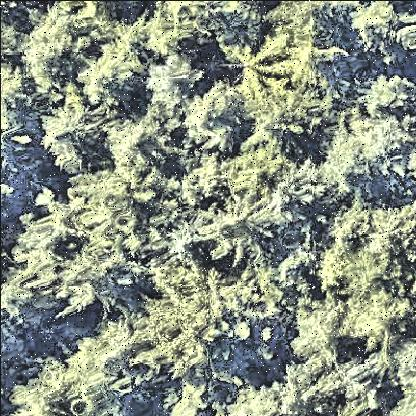tree-top: (136, 263, 249, 375), (321, 118, 415, 194), (62, 246, 133, 316), (41, 101, 101, 176), (220, 32, 287, 98), (287, 296, 350, 364), (79, 40, 143, 106), (101, 115, 171, 175), (23, 14, 78, 88), (202, 200, 264, 264), (186, 82, 242, 151), (268, 169, 332, 229), (345, 288, 407, 348), (9, 364, 74, 416), (347, 2, 407, 58), (338, 351, 398, 407), (361, 208, 416, 269), (141, 53, 201, 107), (358, 69, 416, 117), (157, 380, 219, 416), (1, 55, 28, 133)
